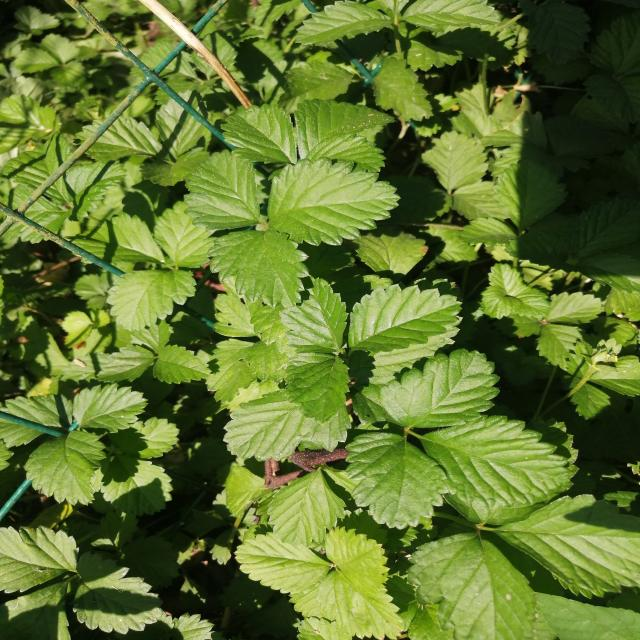Mock_strawberry: (258, 322, 569, 528), (153, 146, 400, 314)
